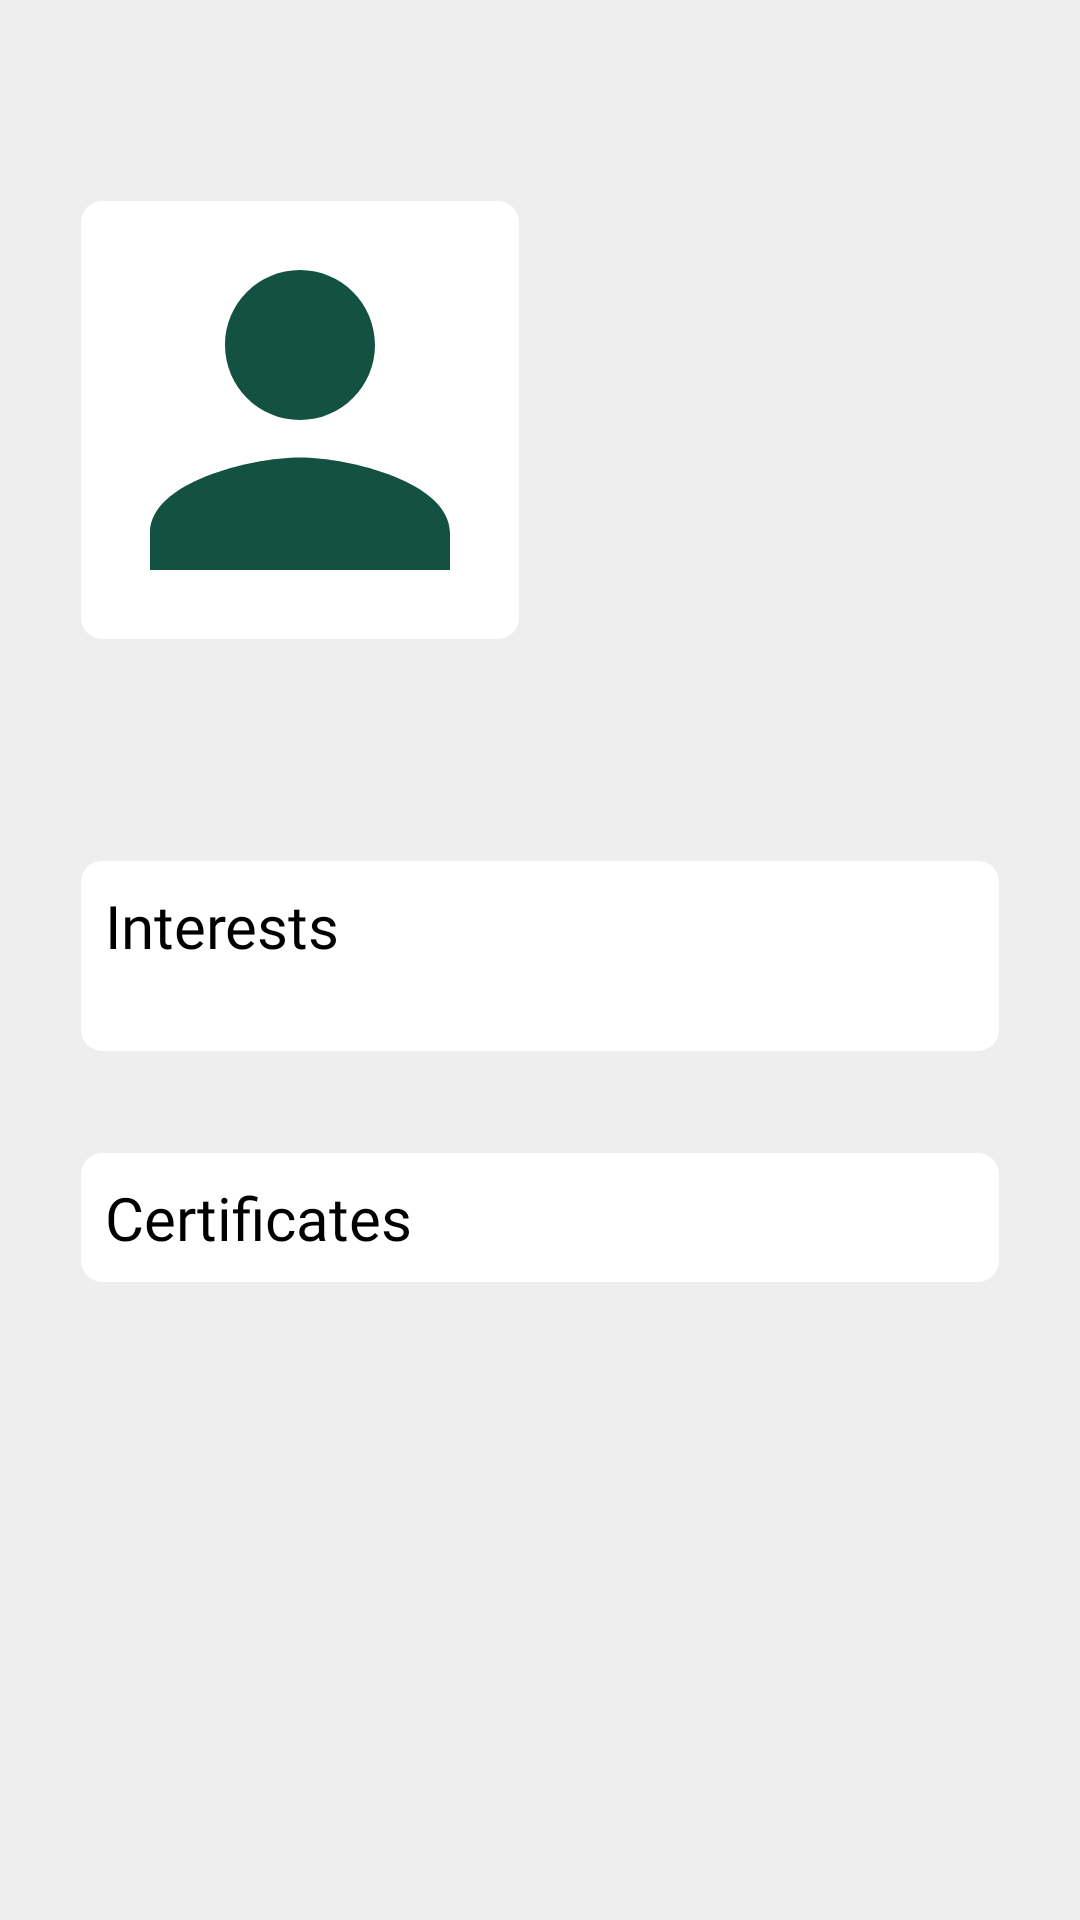

Icons on this 1080px x 1920px Android screen, each with its box as (x1, y1, x2, y2):
person: (150, 270, 450, 570)
